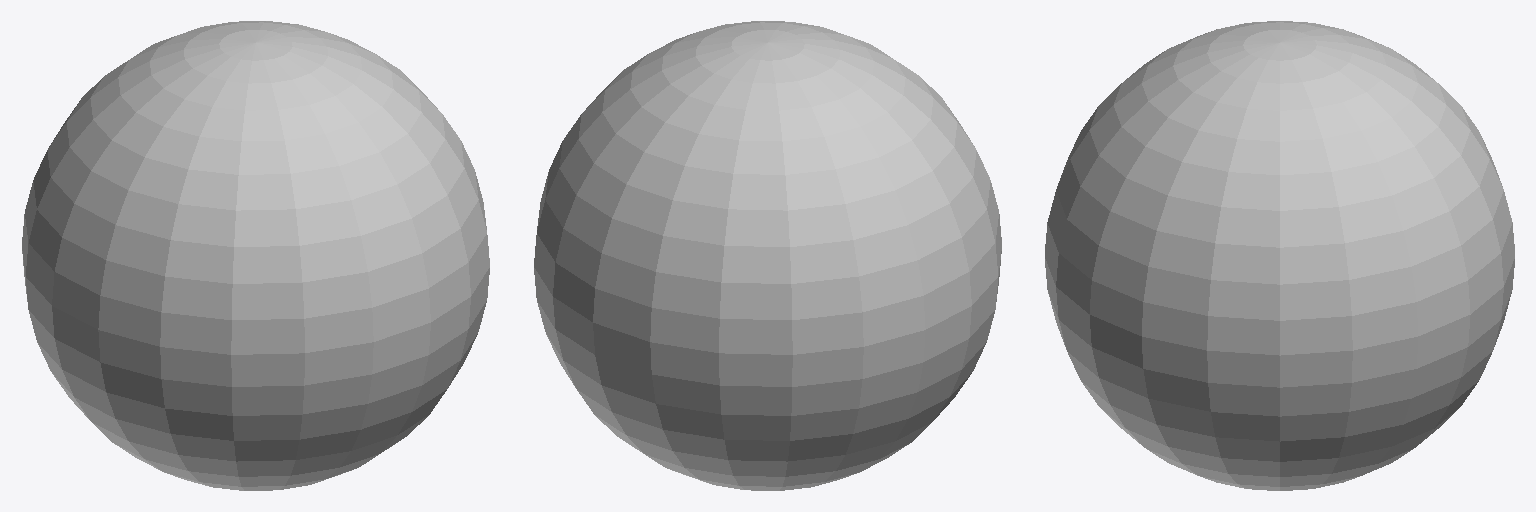
The model's file is Planet.obj.
3 renders of one model, left to right at view 1: azimuth 30°, elevation 25°; view 2: azimuth 150°, elevation 25°; view 3: azimuth 270°, elevation 25°, orthographic.
Parts seen in each view (by area): view 1: pSphere1; view 2: pSphere1; view 3: pSphere1.
Boxes of the visible parts, x1=… form: pSphere1: x1=22, y1=21, x2=489, y2=490; pSphere1: x1=534, y1=21, x2=1001, y2=490; pSphere1: x1=1045, y1=21, x2=1514, y2=490.
Size of the model in its own units: 10.01 by 10.01 by 10.01.